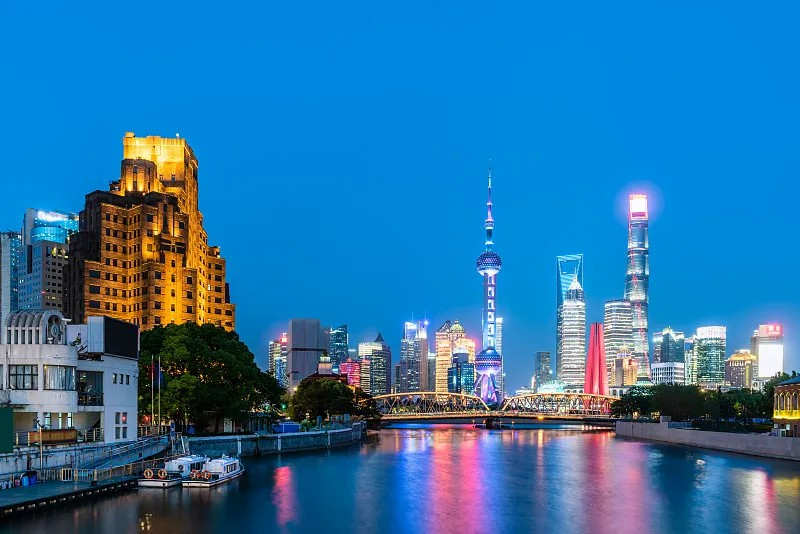Oriental: (474, 157, 503, 402)
